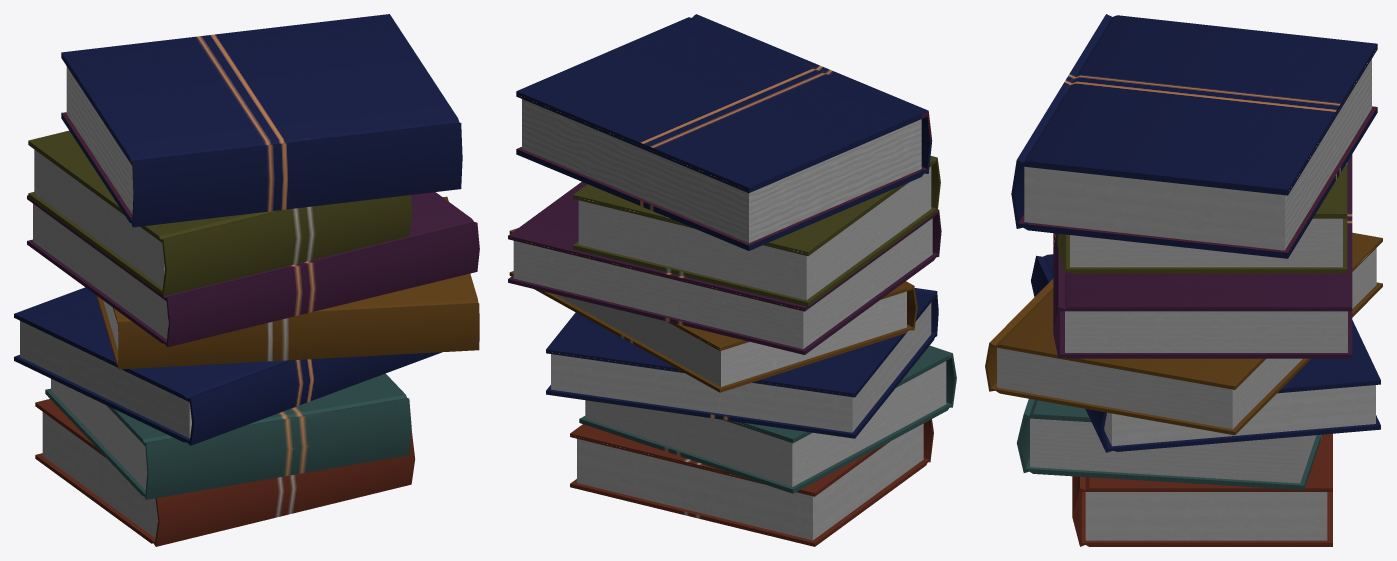
Rendered from Prop_Books_Stacks_4.fbx.
3 views of the same model, side by side, from view 1: azimuth 30°, elevation 25°; view 2: azimuth 150°, elevation 25°; view 3: azimuth 270°, elevation 25° (orthographic). The views are drawn at different scales.
Visible parts, largest first — view 1: Prop_Books_Stacks_4; view 2: Prop_Books_Stacks_4; view 3: Prop_Books_Stacks_4.
Part boxes in pixels (x1,y1,x2,y2): Prop_Books_Stacks_4: (14,14,479,546); Prop_Books_Stacks_4: (508,14,956,546); Prop_Books_Stacks_4: (985,14,1382,546).
Size of the model in its own units: 0.2231 by 0.2034 by 0.1848.
